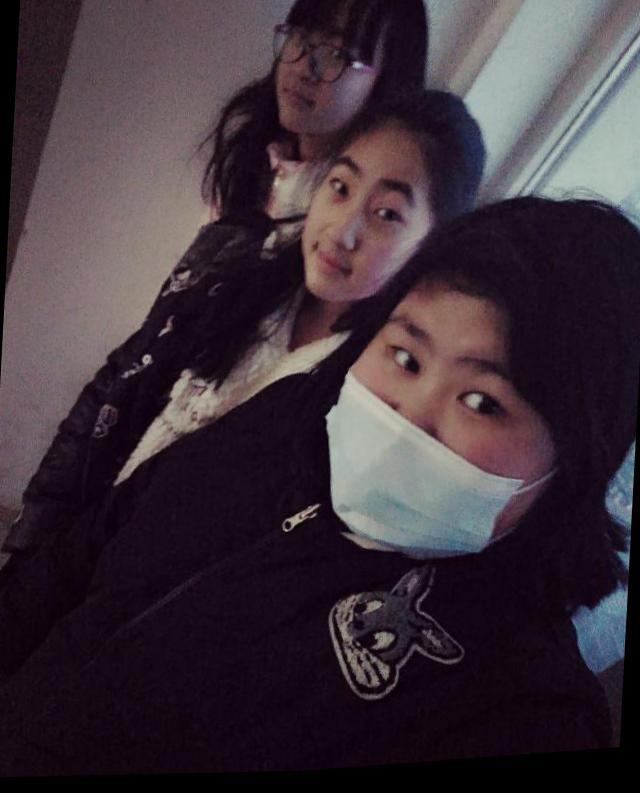NONE: (300, 154, 426, 307), (276, 19, 386, 145)
WRONG: (312, 297, 581, 582)
